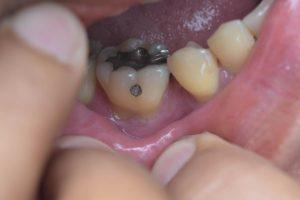crown: (105, 46, 168, 77)
